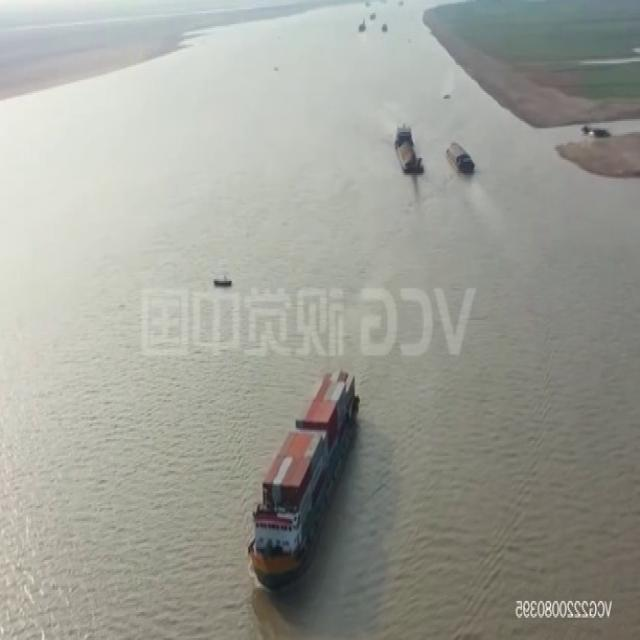cargoship: (234, 351, 364, 592)
